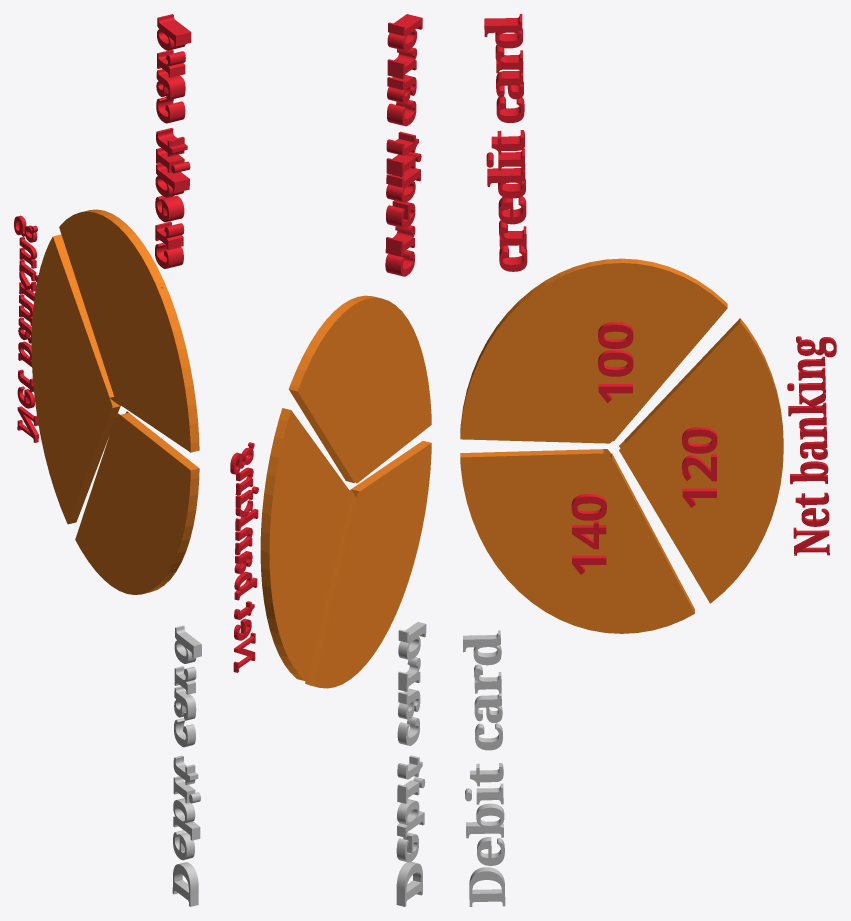
File: tinker 1.obj
3 renders of one model, left to right at view 1: azimuth 30°, elevation 25°; view 2: azimuth 150°, elevation 25°; view 3: azimuth 270°, elevation 25°, orthographic.
Visible parts, largest first — view 1: group_16089887, group_15277357, group_16500122; view 2: group_16089887, group_15277357, group_16500122; view 3: group_16089887, group_15277357, group_16500122.
Part boxes in pixels (left/top/right/bottom): group_16089887: left=31, top=209, right=199, bottom=594; group_15277357: left=14, top=14, right=191, bottom=442; group_16500122: left=172, top=625, right=201, bottom=906; group_16089887: left=260, top=295, right=431, bottom=688; group_15277357: left=230, top=14, right=422, bottom=672; group_16500122: left=396, top=622, right=426, bottom=906; group_16089887: left=460, top=258, right=783, bottom=633; group_15277357: left=484, top=14, right=836, bottom=574; group_16500122: left=463, top=630, right=505, bottom=906.
Bounding box in the file's own units: 5.07 × 221 × 85.19.
